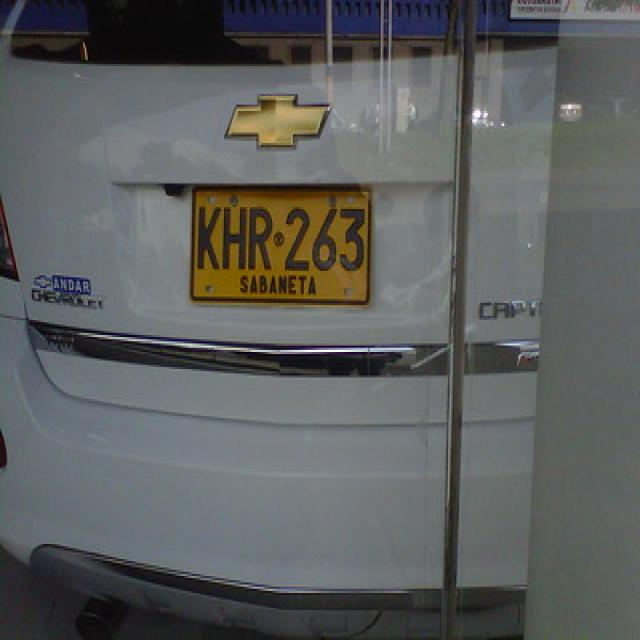placa_carro: (173, 174, 385, 324)
